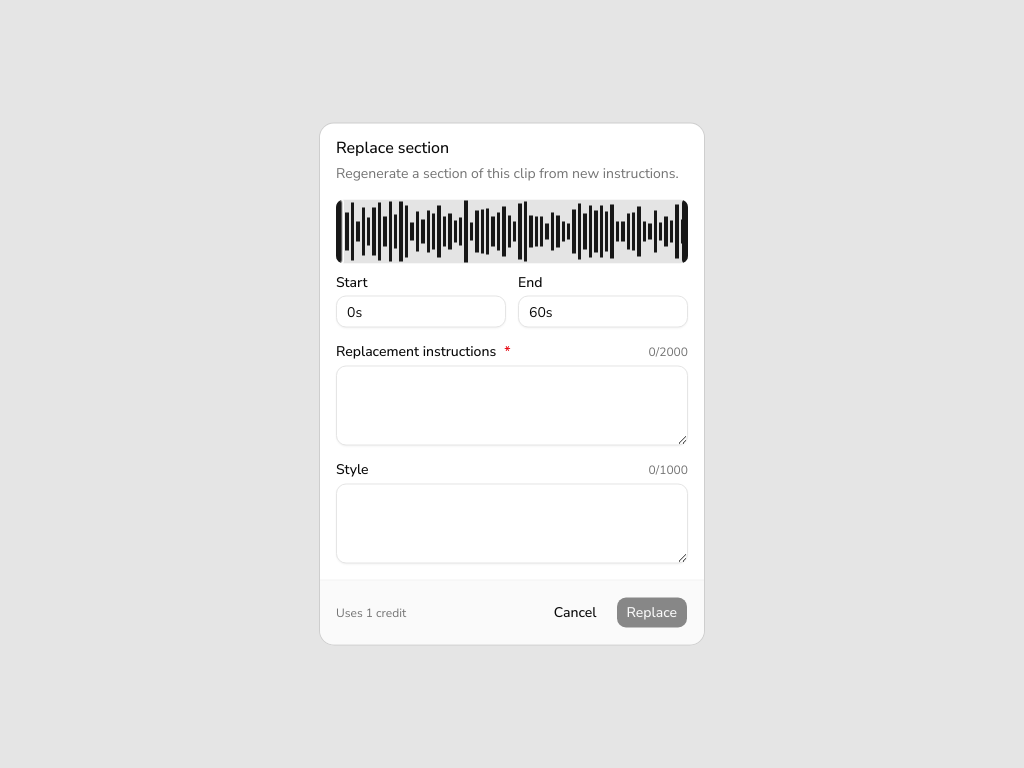
ReplaceSectionModal › submits the repaint payload to the repaint endpoint and reaches success
Type "make it jazzy" into the text box labelled "Replacement instructions *" at (512, 406), box x1=336 y1=366 x2=688 y2=446
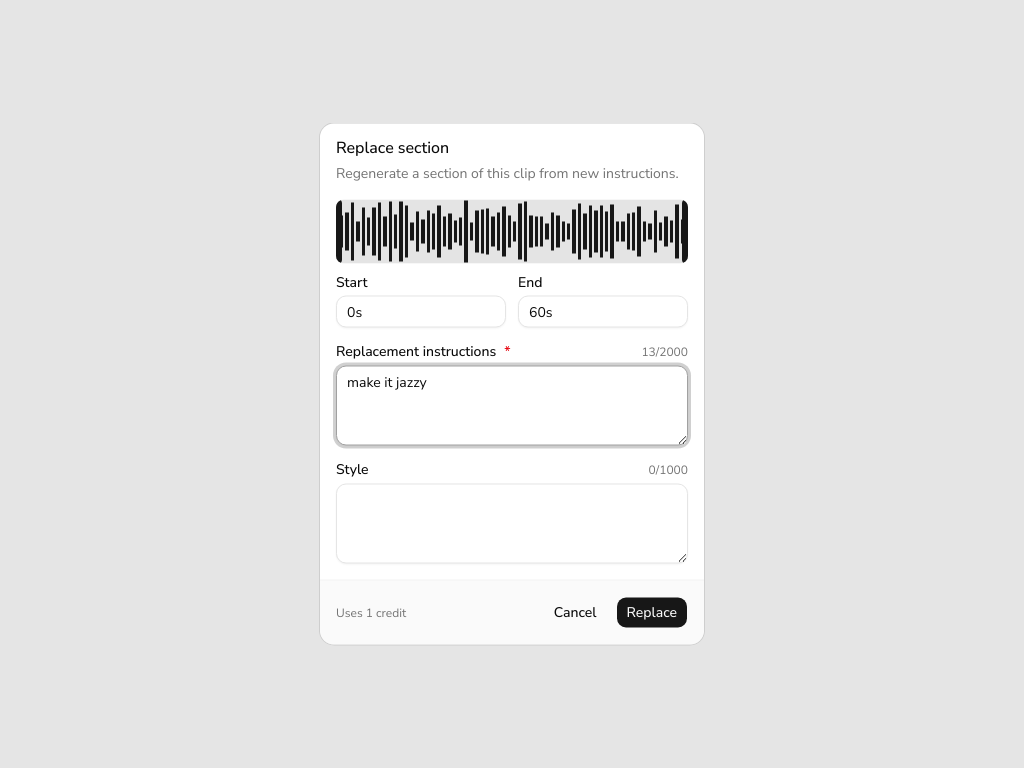
Click the button "Replace" at (652, 612), box x1=616 y1=596 x2=688 y2=628
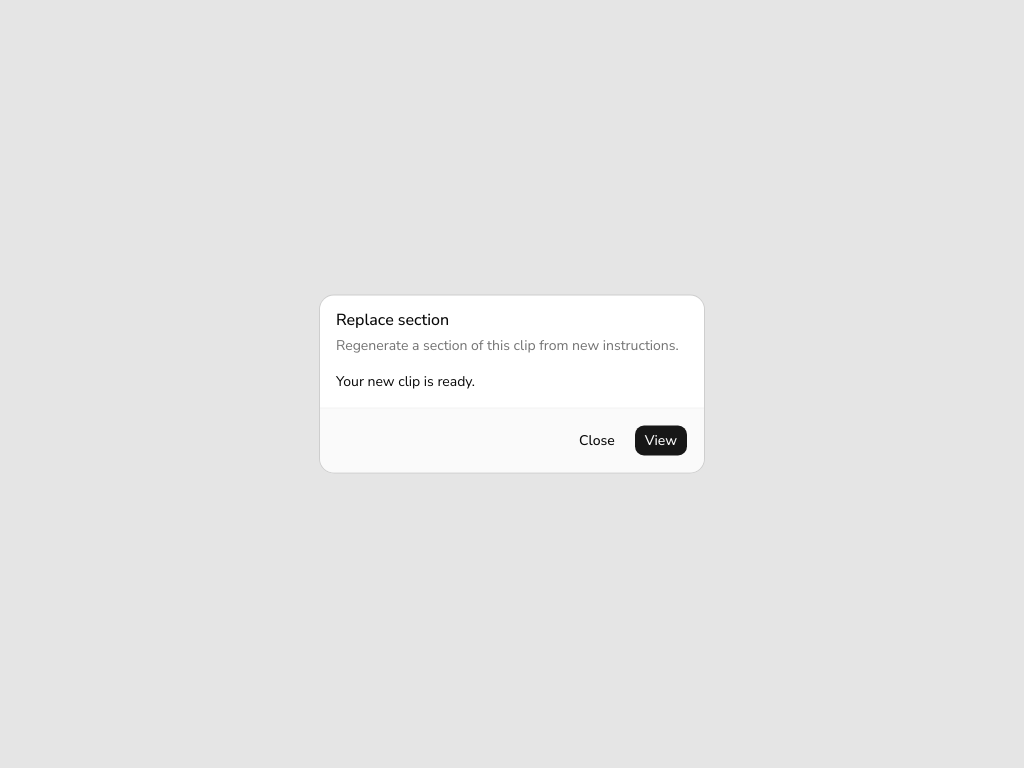
Check: the text "Your new clip is ready." is shown, box x1=336 y1=372 x2=475 y2=390
